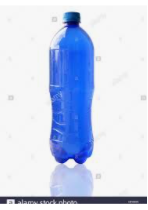Bottle: (50, 12, 95, 164)
